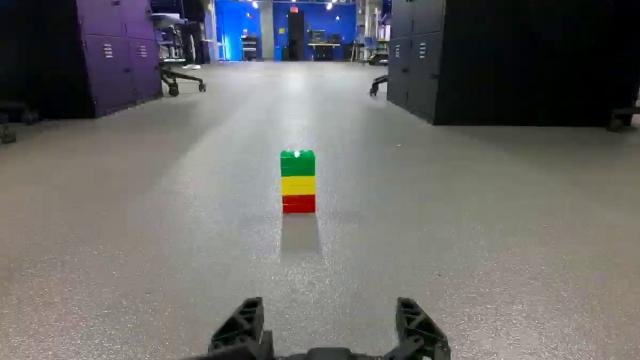lego: (278, 150, 318, 214)
